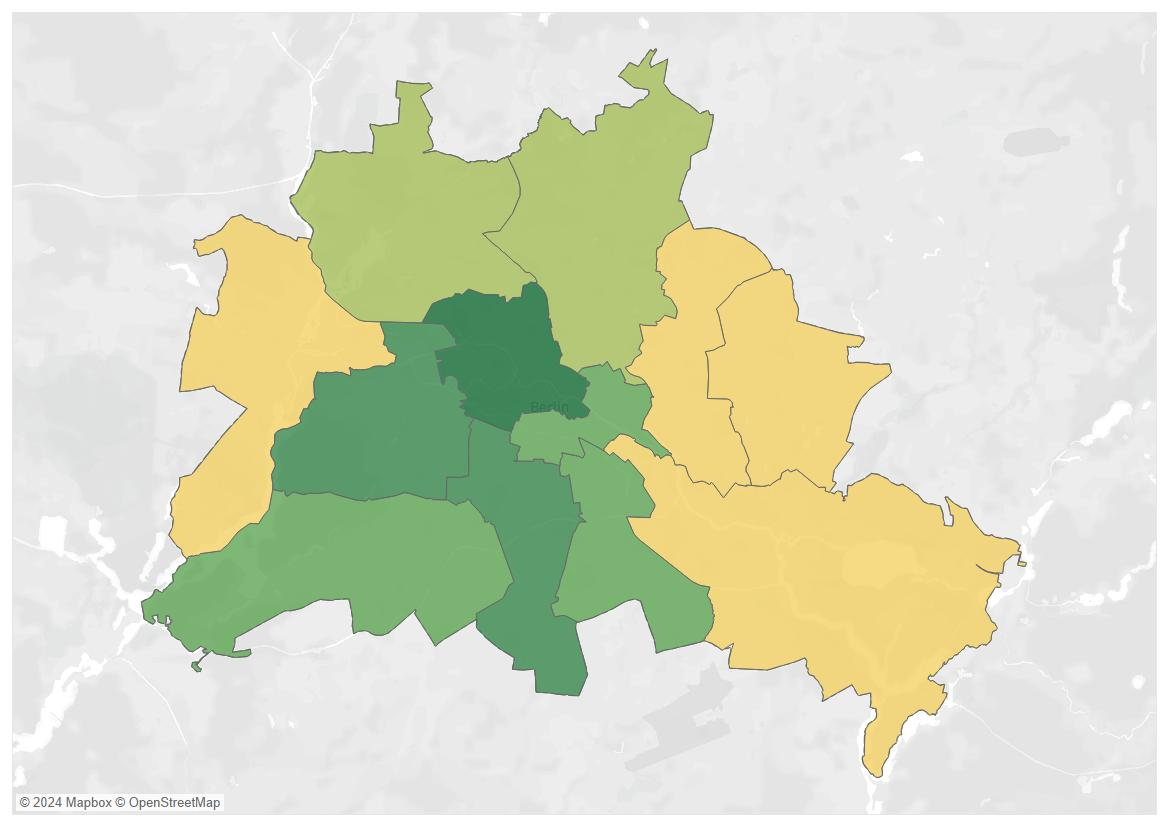

The page's visual inventory and layout, read from the dashboard file:
{"tool":"tableau","page":{"name":"DA5","canvas":[1169,827],"ordinal":5},"visuals":[{"type":"worksheet","title":"Restaurants per km^2","mark":"Automatic","rows":["Gemeinde_n"],"cols":["Calculation_2923680605737775104"],"box":[8,8,1153,811]}]}

Visuals, with their boxes in screenshot pixels (x1, y1, x2, y2), scaled from the page's 1169x827 canvas onto the 1169x827 screenshot:
"Restaurants per km^2" worksheet: detection(8, 8, 1161, 819)
